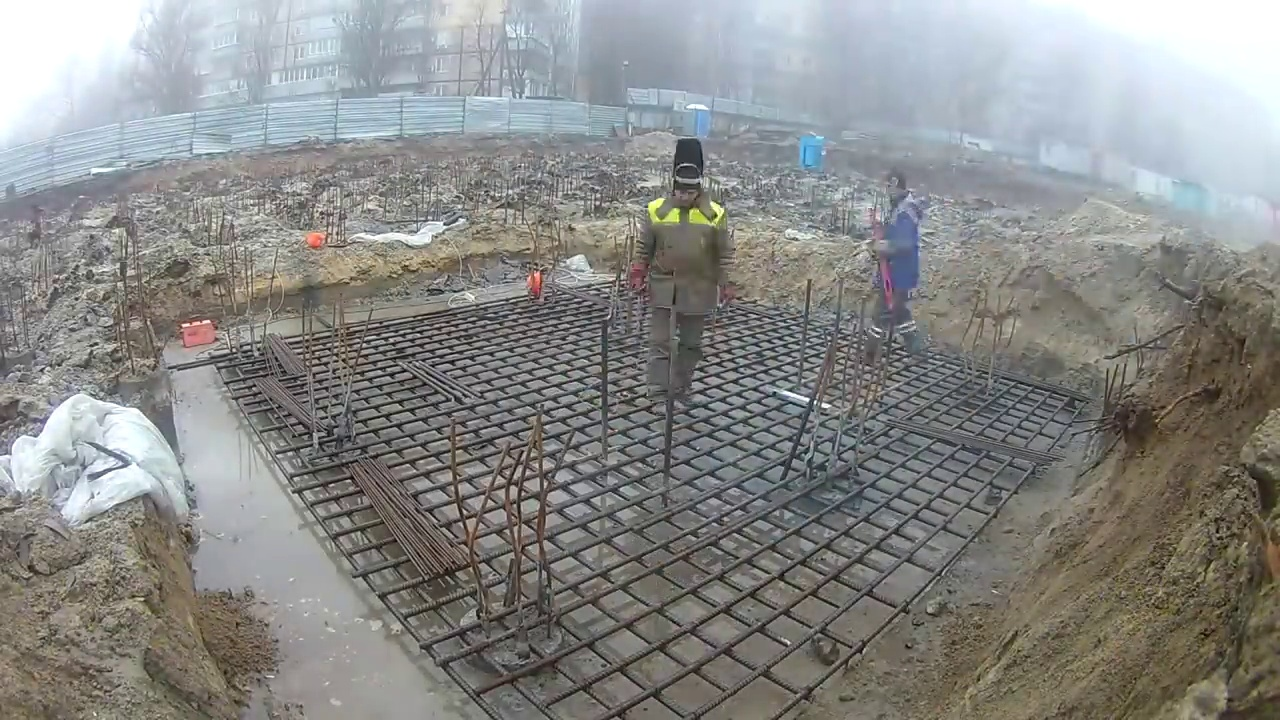helmet: (527, 270, 542, 298), (304, 232, 324, 248)
helmet-off: (665, 137, 710, 220), (880, 167, 914, 213)
person: (631, 135, 735, 416), (870, 168, 930, 365)
